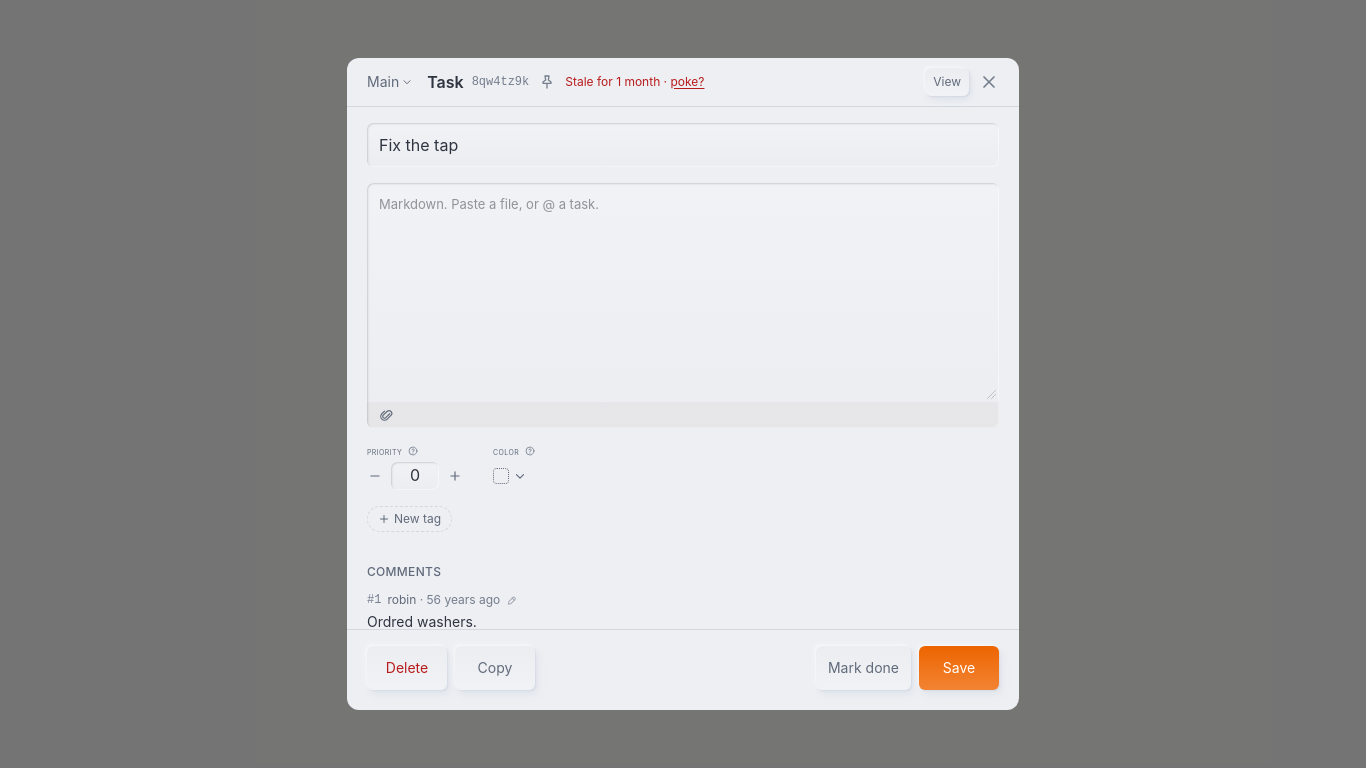
Test case: comments › closes an edit nothing was changed in without asking
The image size is (1366, 768).
Click the button named "Edit comment": (512, 600) top-left (506, 594), bottom-right (518, 606)
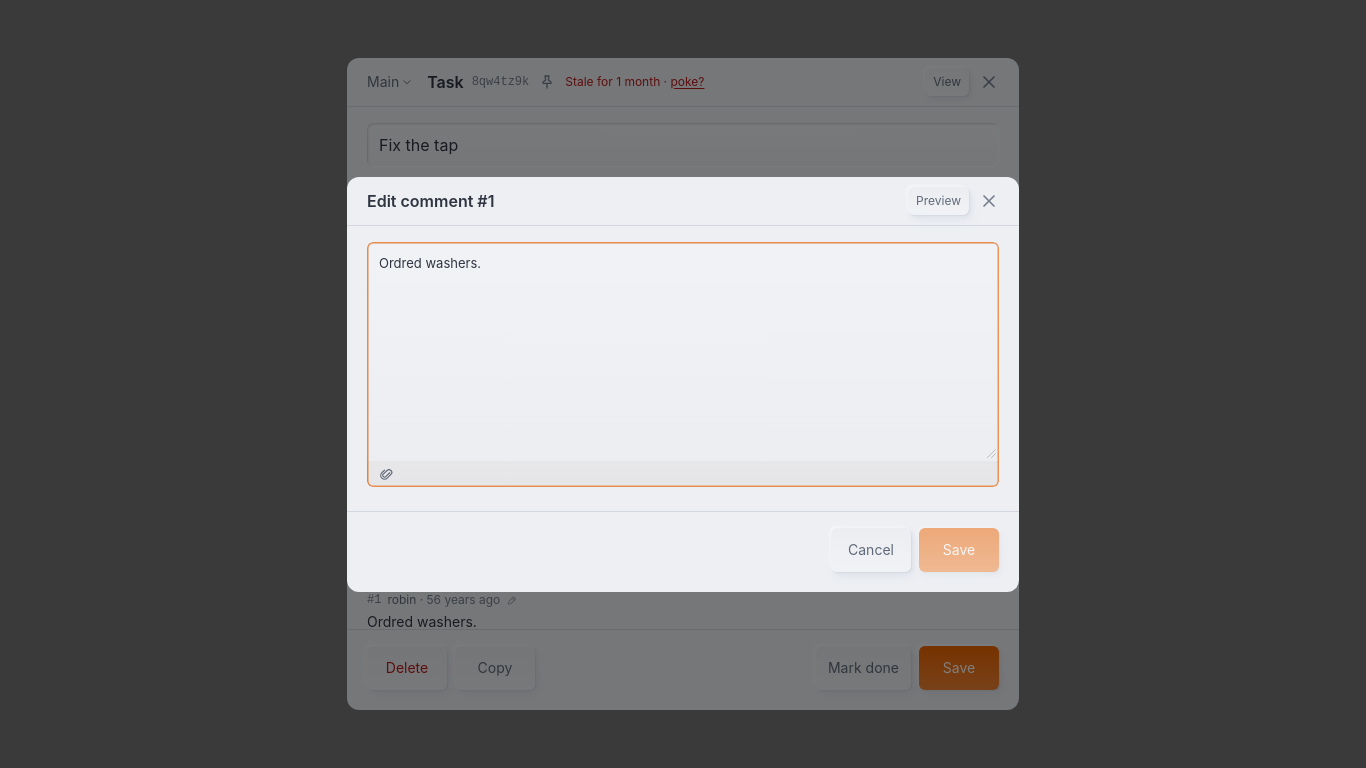
Result: the text box with placeholder "Comment. Markdown; Ctrl+Enter sends." is shown at top-left (367, 242), bottom-right (999, 460)
Click the button "Cancel": (871, 550) top-left (831, 528), bottom-right (911, 572)
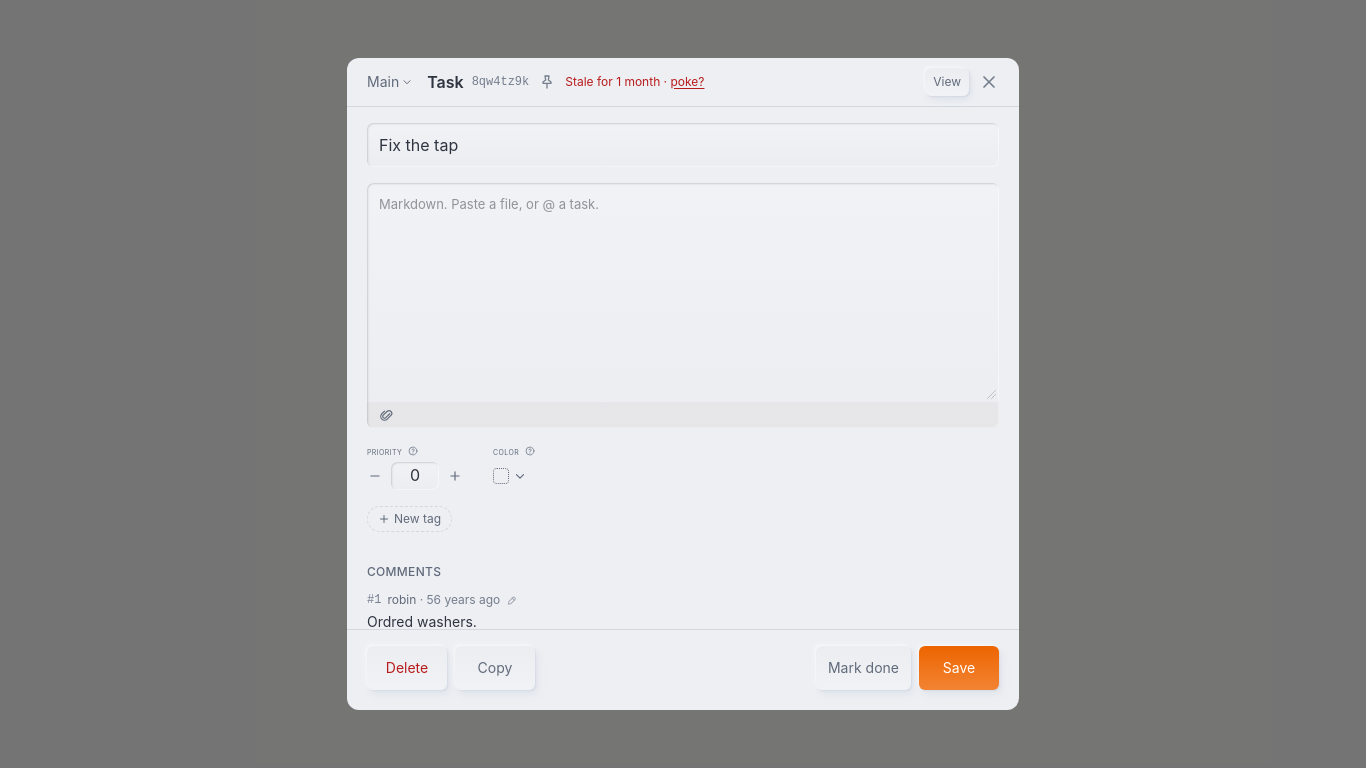
Result: the heading "Edit comment #1" is gone
